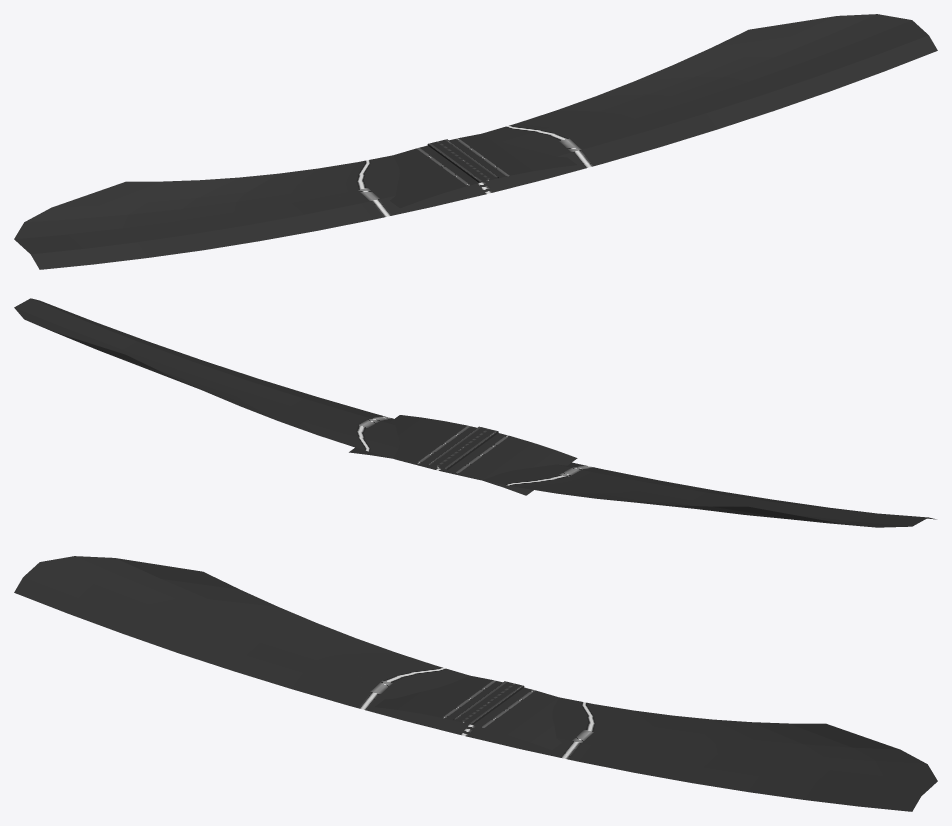
File: low_to_flat_b.FBX
3 views of the same model, one above another, from view 1: azimuth 30°, elevation 25°; view 2: azimuth 150°, elevation 25°; view 3: azimuth 330°, elevation 25° (orthographic).
Visible parts, largest first — view 1: Object009, Object010, Box005; view 2: Object009, Object010, Box005; view 3: Object009, Object010, Box005.
Part boxes in pixels (left/top/right/bottom): Object009: left=14, top=14, right=937, bottom=269; Object010: left=390, top=133, right=576, bottom=208; Box005: left=427, top=139, right=498, bottom=182; Object009: left=14, top=298, right=936, bottom=527; Object010: left=349, top=415, right=577, bottom=495; Box005: left=427, top=426, right=498, bottom=470; Object009: left=14, top=556, right=937, bottom=811; Object010: left=375, top=675, right=561, bottom=750; Box005: left=453, top=681, right=524, bottom=724.
Bounding box in the file's own units: 128985 × 6916 × 12832.
